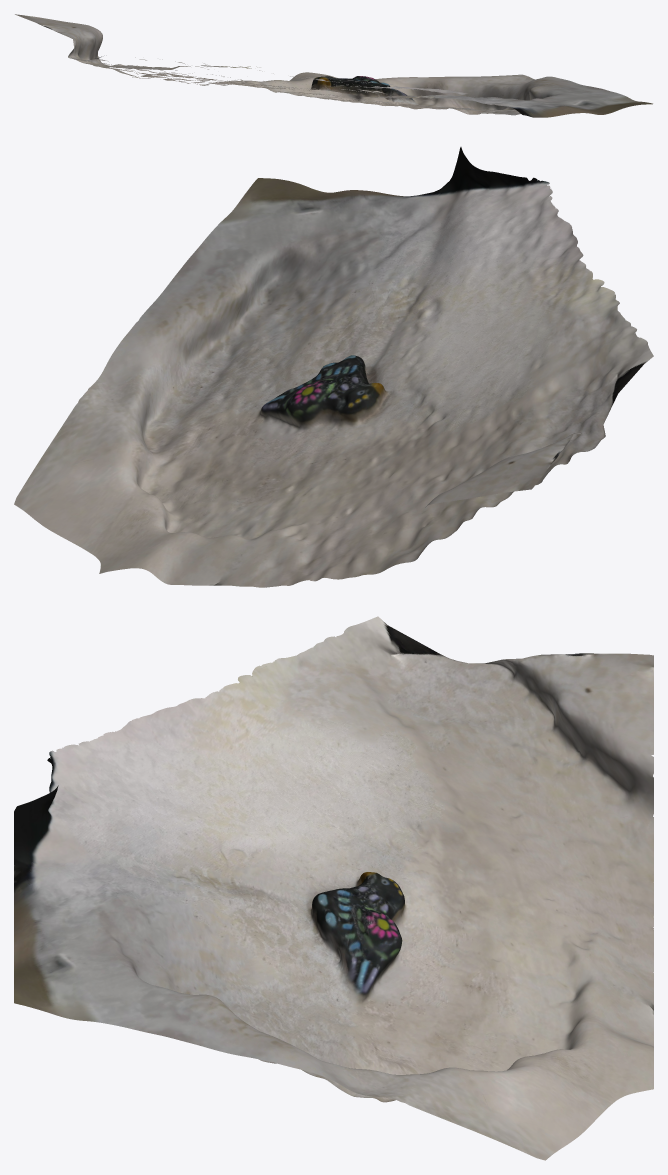
3 views of the same model, one above another, from view 1: azimuth 30°, elevation 25°; view 2: azimuth 150°, elevation 25°; view 3: azimuth 270°, elevation 25° (orthographic). The views are drawn at different scales.
Bounding box in the file's own units: 1.6 × 0.6129 × 1.44.
1 material, 1 textured.
